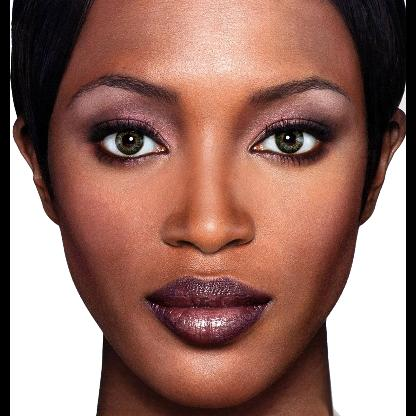Female: (12, 3, 404, 408)
